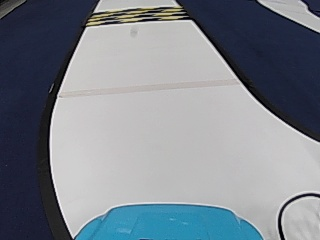bump: (102, 4, 182, 28)
